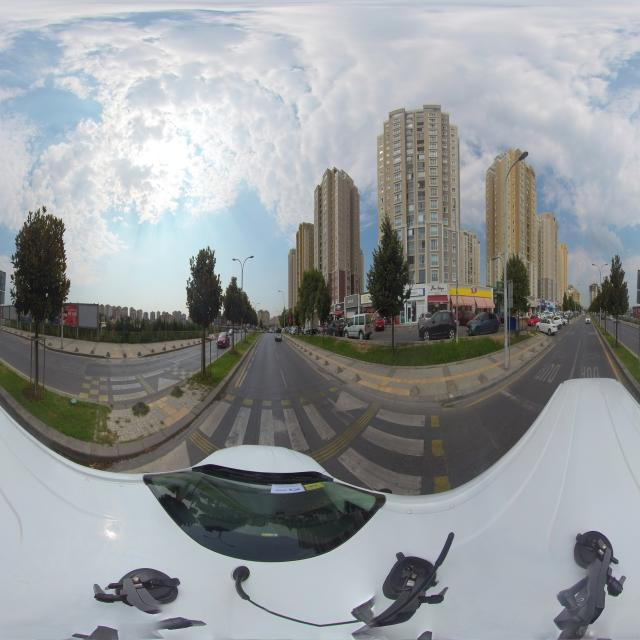SignStore: (426, 284, 445, 294), (467, 285, 479, 296), (409, 288, 422, 298), (346, 295, 358, 305), (360, 293, 373, 302), (334, 303, 344, 311), (529, 296, 536, 301), (330, 305, 334, 312), (541, 301, 545, 307), (546, 301, 551, 305), (537, 299, 540, 305)
